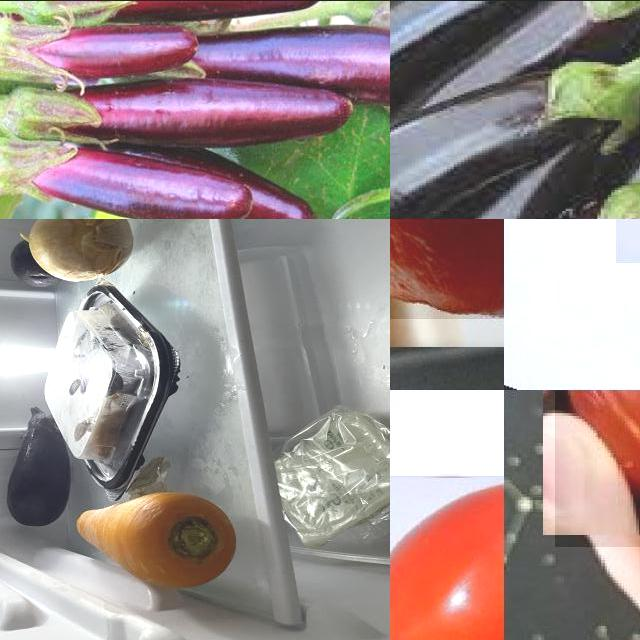carrot: (75, 489, 246, 595)
eggplant: (391, 72, 629, 219), (391, 1, 587, 139), (10, 144, 314, 219), (1, 76, 354, 140), (1, 137, 254, 219), (176, 25, 391, 116), (1, 20, 201, 76), (4, 402, 73, 528), (10, 1, 331, 23), (13, 237, 62, 286)
onion: (20, 219, 134, 283)
tomato: (391, 477, 505, 640)
